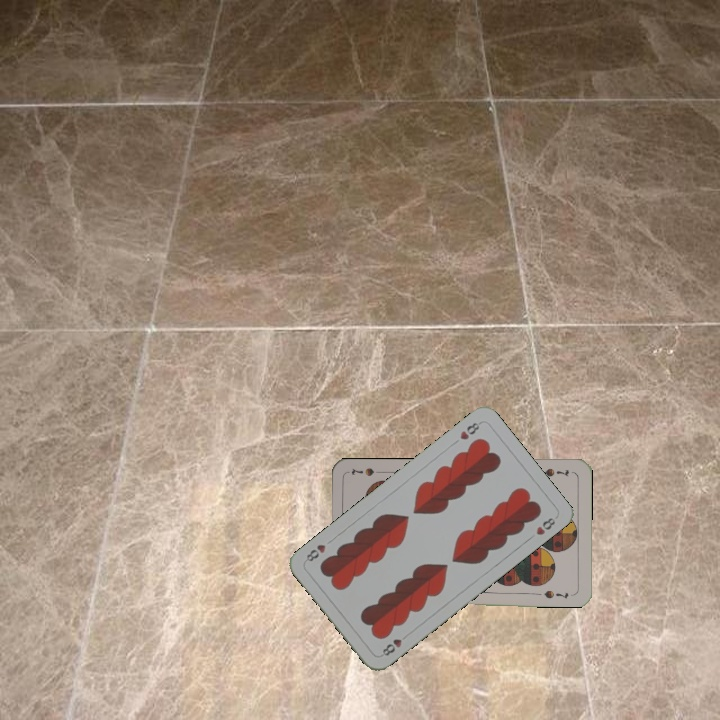H8: (378, 629, 411, 659), (456, 418, 484, 442)
S7: (541, 464, 571, 479)
